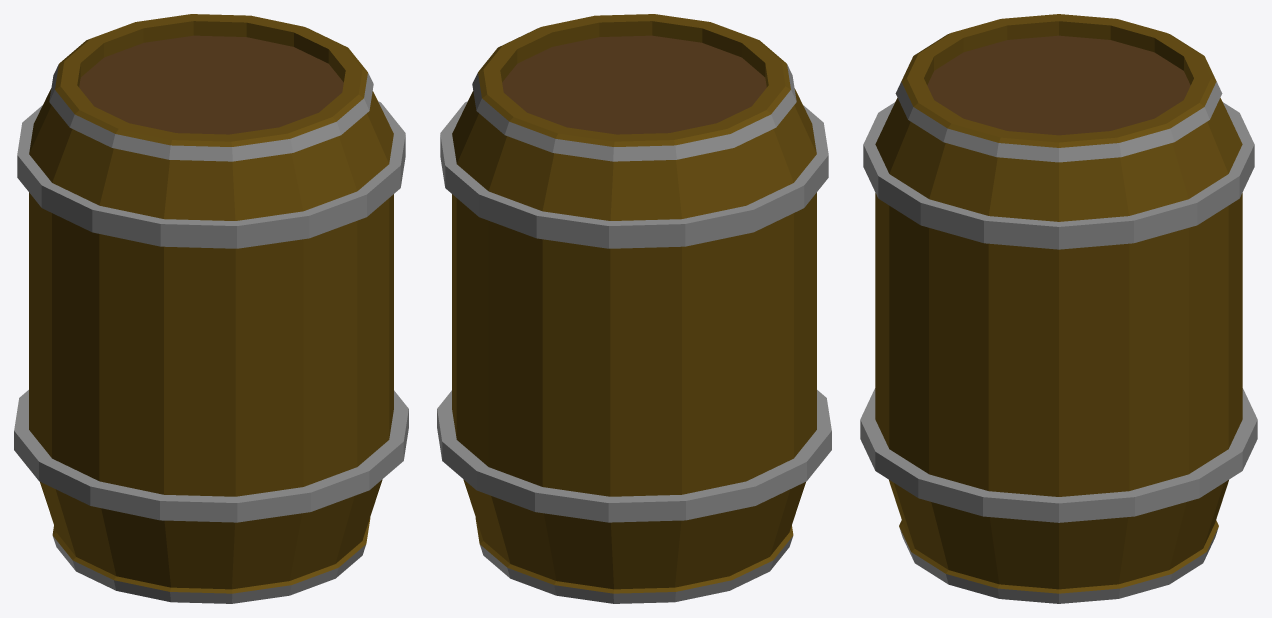
The model's file is Fass.fbx.
3 views of the same model, side by side, from view 1: azimuth 30°, elevation 25°; view 2: azimuth 150°, elevation 25°; view 3: azimuth 270°, elevation 25° (orthographic).
Visible parts, largest first — view 1: Fass; view 2: Fass; view 3: Fass.
Boxes of the visible parts, x1,y1,x2,y2 form: Fass: (14, 14, 408, 603); Fass: (437, 14, 831, 603); Fass: (860, 14, 1257, 603).
Size of the model in its own units: 0.7515 by 0.9592 by 0.7515.
